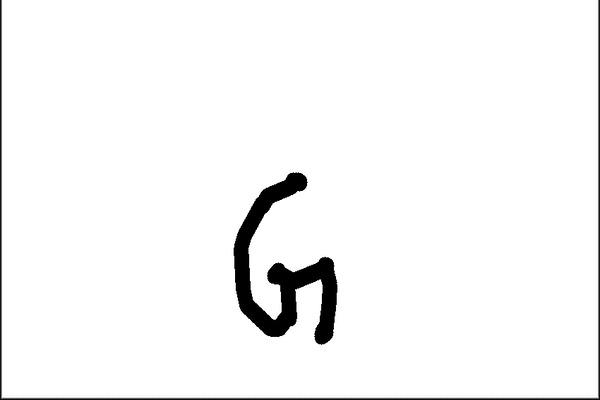G: (223, 166, 345, 348)
